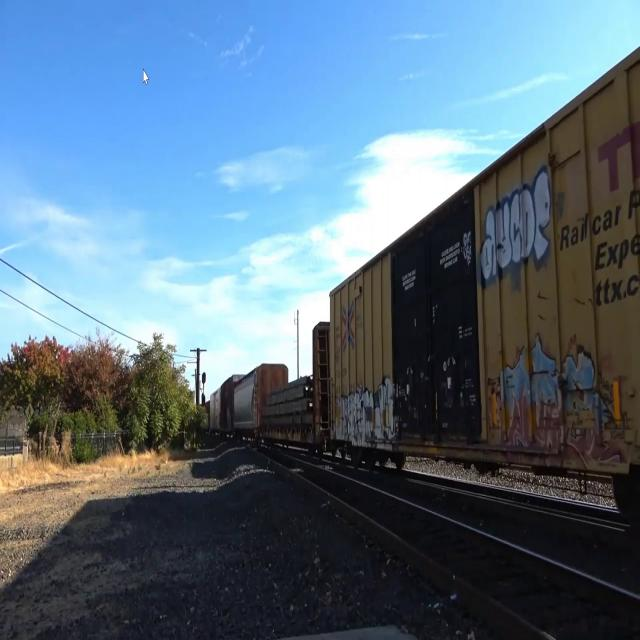boxcar: (325, 33, 640, 549)
cargo: (260, 372, 313, 426)
flatcar_bulkhead: (256, 318, 330, 459)
